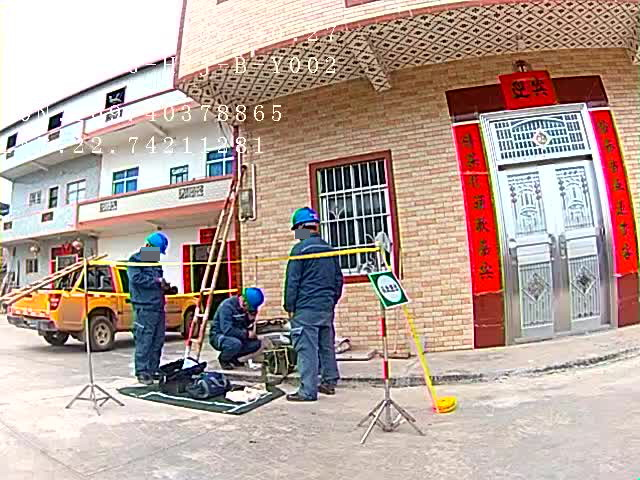downsuit: (295, 312, 340, 391), (133, 310, 166, 375), (208, 329, 261, 357)
halt: (291, 207, 323, 239), (142, 231, 170, 259), (244, 287, 266, 312)
hand: (246, 331, 256, 339)
intosign: (369, 271, 409, 308)
person: (284, 205, 348, 399), (126, 230, 173, 382), (210, 285, 267, 364)
upsuit: (284, 237, 345, 305), (127, 252, 168, 310), (213, 297, 246, 337)
